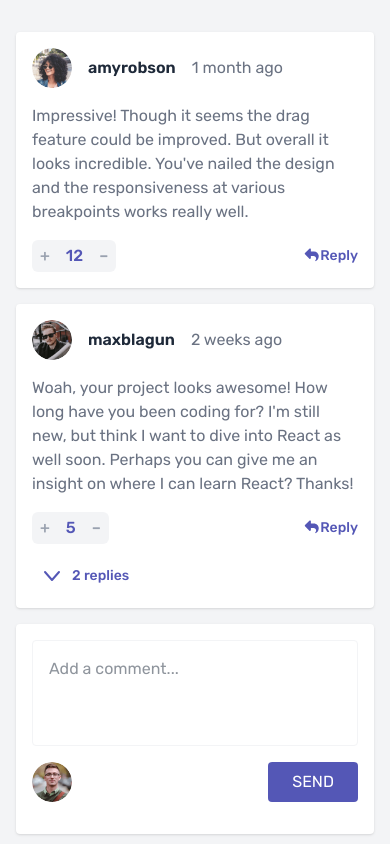
Test: CommentSection integration › should allow voting on a comment and update the score
expect the text with test id "comment-score" reads "12": met, box left=66, top=246, right=83, bottom=265
Click the upvote button
Click the button with test id "upvote-button" next to "12". click: (45, 256)
box: left=32, top=240, right=58, bottom=272
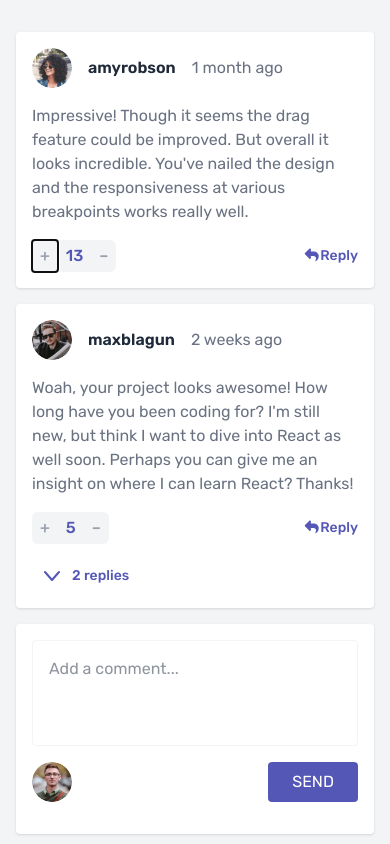
expect the text with test id "comment-score" reads "13": met, box left=66, top=246, right=83, bottom=265
Click the downvote button
Click the button with test id "downvote-button" next to "13". click: (104, 256)
box: left=91, top=240, right=116, bottom=272
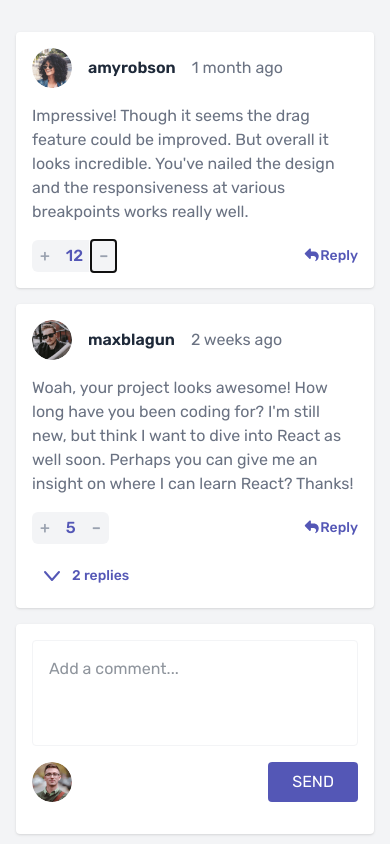
expect the text with test id "comment-score" reads "12": met, box left=66, top=246, right=83, bottom=265
